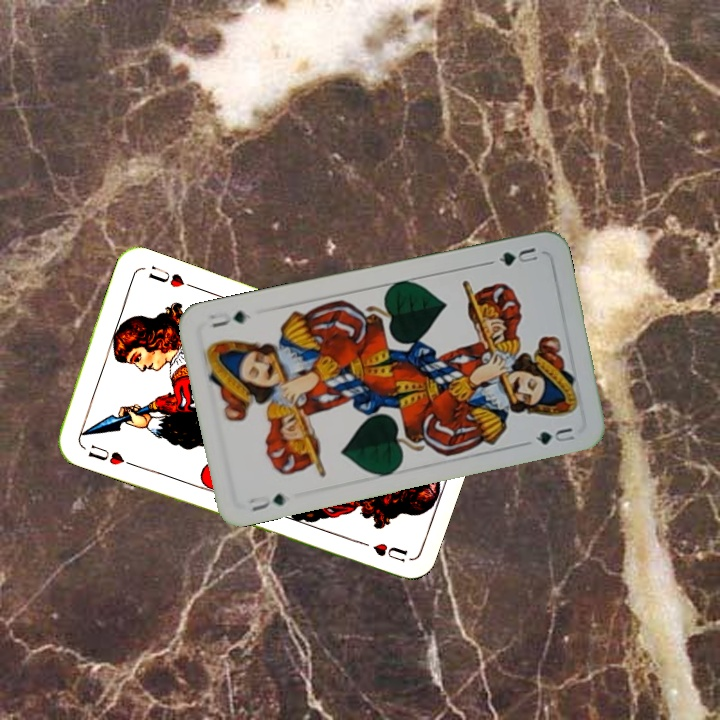GU: (494, 243, 541, 269), (245, 489, 289, 514)
HU: (84, 440, 127, 468)
